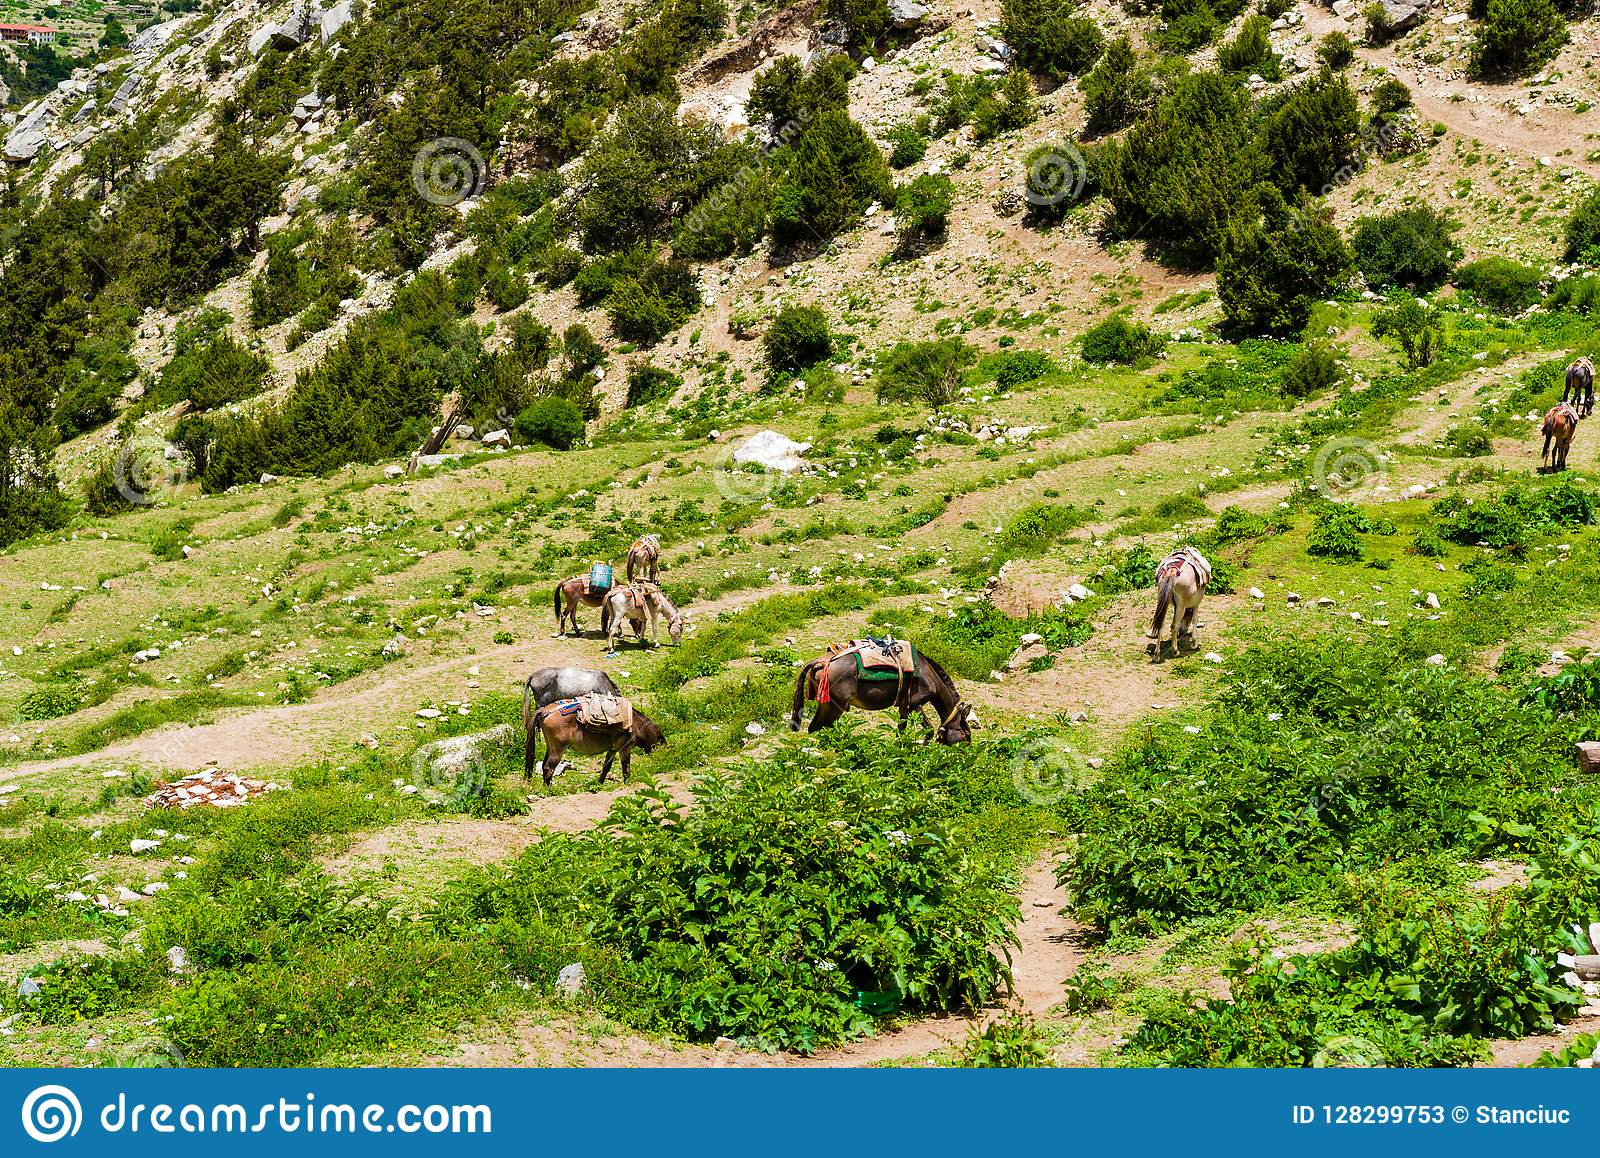equine: (783, 634, 989, 770), (504, 690, 701, 793), (483, 645, 629, 736), (1138, 540, 1224, 660), (593, 570, 711, 650), (535, 559, 634, 636), (1525, 393, 1600, 470), (1542, 348, 1600, 424), (615, 521, 676, 585)
